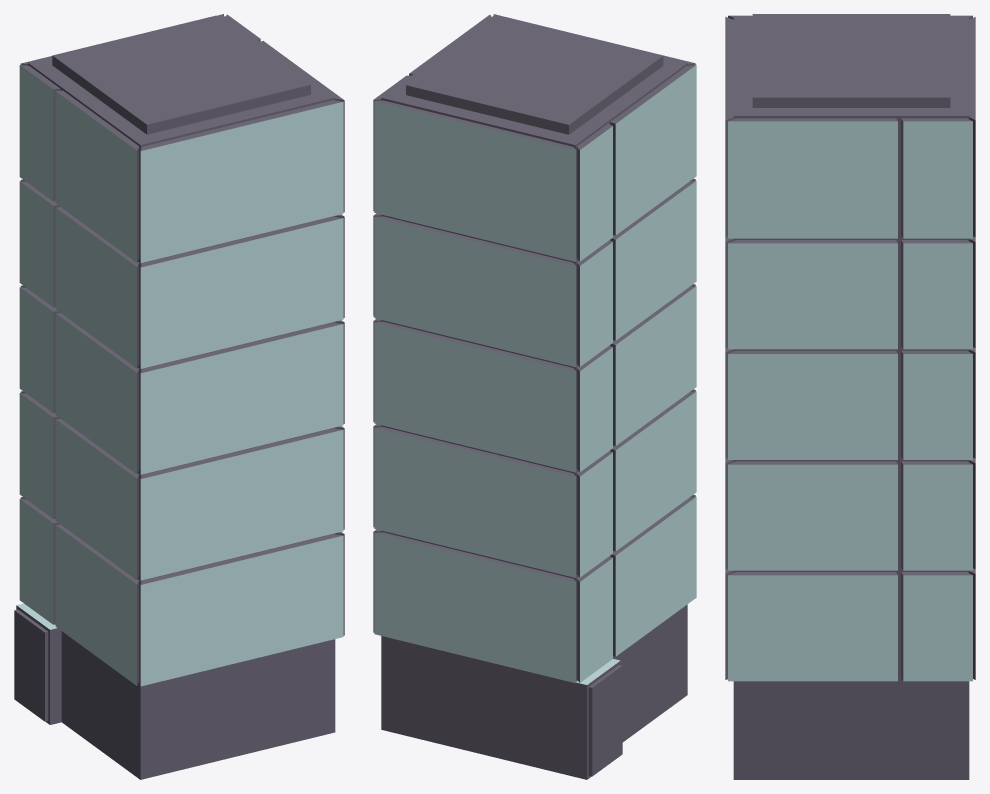
File: skyscraper1 1.fbx
The picture shows the model from 3 angles, left to right: view 1: azimuth 30°, elevation 25°; view 2: azimuth 150°, elevation 25°; view 3: azimuth 270°, elevation 25°; orthographic projection. The views are drawn at different scales.
Parts seen in each view (by area): view 1: Skyscraper_2; view 2: Skyscraper_2; view 3: Skyscraper_2.
Part boxes in pixels (x1,y1,x2,y2): Skyscraper_2: (14, 14, 344, 779); Skyscraper_2: (373, 14, 696, 779); Skyscraper_2: (725, 14, 975, 779).
Size of the model in its own units: 222 by 632 by 213.
